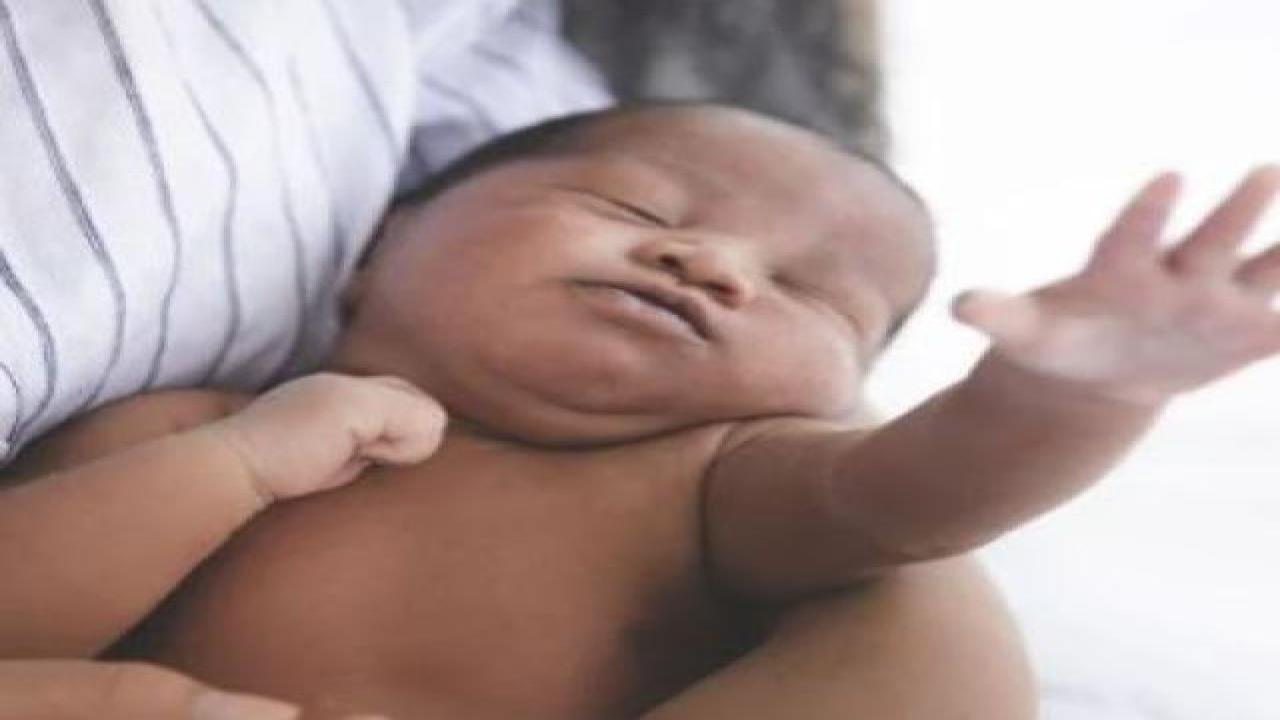hand: (946, 164, 1280, 397), (218, 366, 448, 502)
